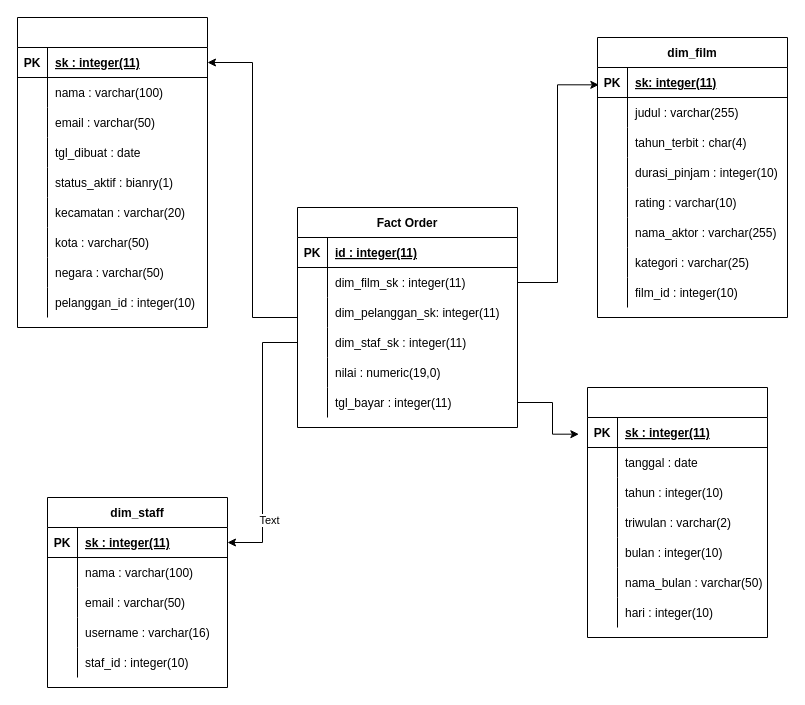
Image size: 805x705. Some labels were removed from this diagram. Here are the shapes that lost their labels. From the top down, the box of each, then its label:
(16, 16, 208, 328): dim_pelanggan
(586, 386, 768, 638): dim_tanggal
